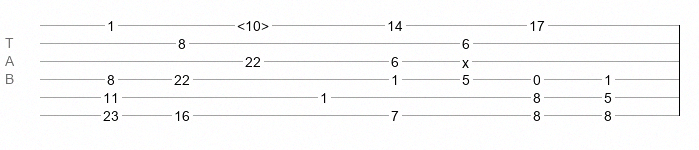0: (533, 72, 541, 82)
1: (107, 18, 115, 28), (320, 90, 328, 100), (391, 72, 399, 82), (604, 72, 612, 82)
11: (103, 90, 119, 100)
14: (387, 18, 403, 28)
16: (174, 108, 190, 118)
17: (529, 18, 545, 28)
22: (174, 72, 190, 82), (245, 54, 261, 64)
23: (103, 108, 119, 118)
5: (462, 72, 470, 82), (604, 90, 612, 100)
6: (391, 54, 399, 64), (462, 36, 470, 46)
7: (391, 108, 399, 118)
8: (107, 72, 115, 82), (178, 36, 186, 46), (533, 90, 541, 100), (533, 108, 541, 118), (604, 108, 612, 118)
harmonic: (237, 18, 269, 28)
x: (462, 55, 469, 63)
